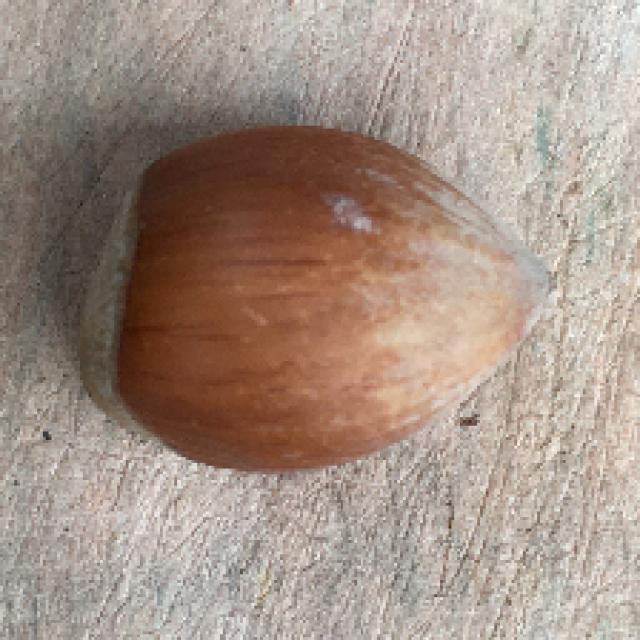QualityHazelnut: (82, 130, 558, 471)
